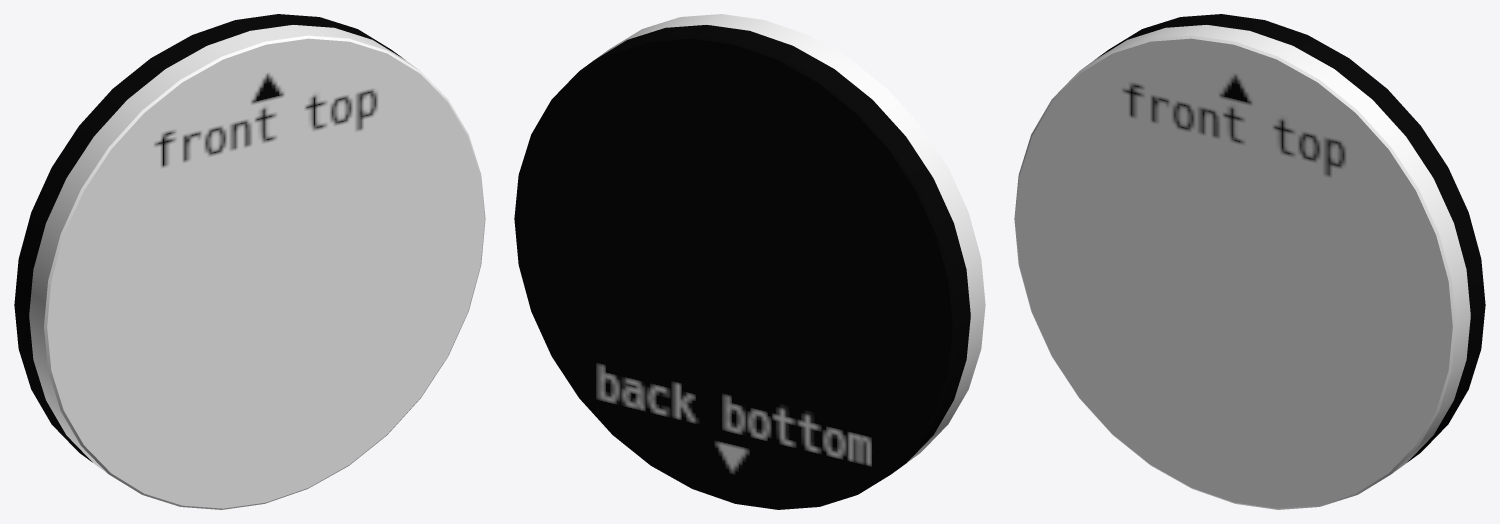
The model's file is GUI3D.glb.
The picture shows the model from 3 angles, left to right: view 1: azimuth 30°, elevation 25°; view 2: azimuth 150°, elevation 25°; view 3: azimuth 330°, elevation 25°; orthographic projection.
Visible parts, largest first — view 1: GUI3D-btnA.000; view 2: GUI3D-btnA.000; view 3: GUI3D-btnA.000.
Part boxes in pixels (x1,y1,x2,y2): GUI3D-btnA.000: (14,14,485,509); GUI3D-btnA.000: (514,14,985,509); GUI3D-btnA.000: (1014,14,1485,509).
Bounding box in the file's own units: 0.2 × 0.2 × 0.025.
Materials: 1 (1 with a texture image).
